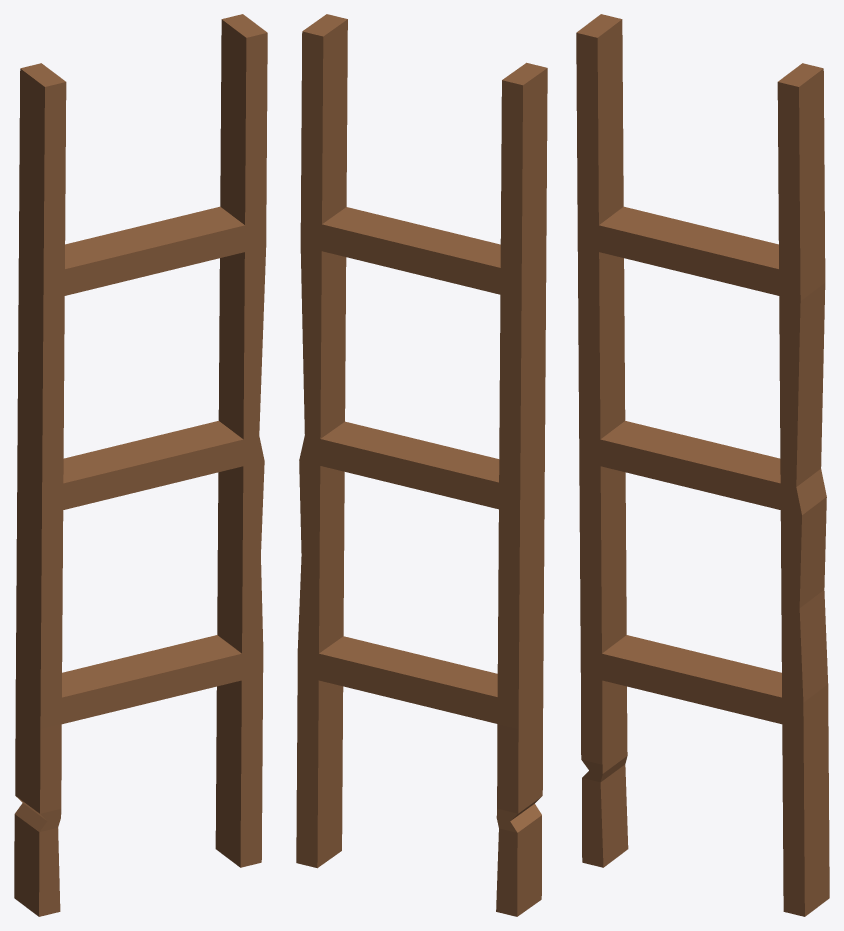
Rendered from ladder_short.glb.
The picture shows the model from 3 angles, left to right: view 1: azimuth 30°, elevation 25°; view 2: azimuth 150°, elevation 25°; view 3: azimuth 330°, elevation 25°; orthographic projection.
Visible parts, largest first — view 1: Ladder_short; view 2: Ladder_short; view 3: Ladder_short.
Part boxes in pixels (x1,y1,x2,y2): Ladder_short: [14, 14, 267, 916]; Ladder_short: [296, 14, 547, 916]; Ladder_short: [576, 14, 829, 916].
Size of the model in its own units: 0.6331 by 2.27 by 0.1512.
